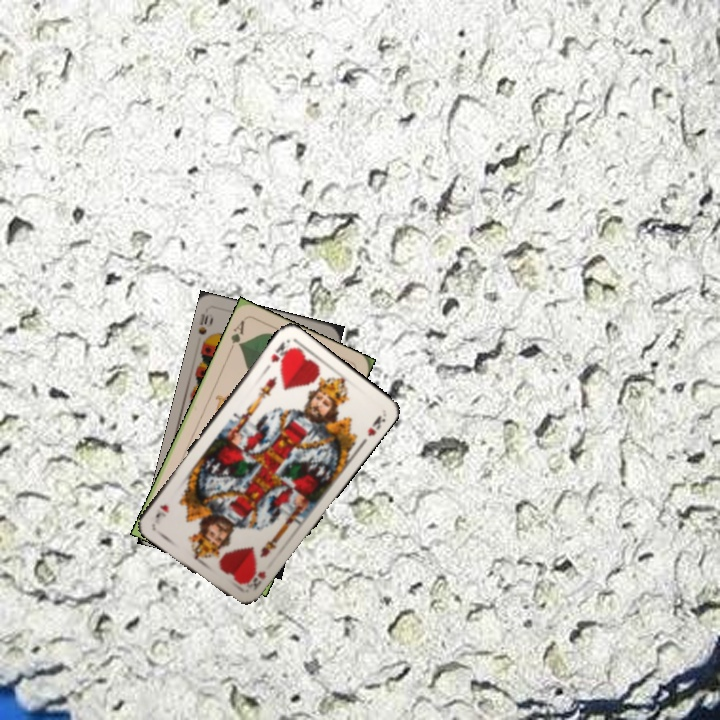GA: (225, 316, 247, 354)
HK: (261, 337, 294, 373), (240, 562, 269, 593)
S10: (194, 310, 216, 348)
